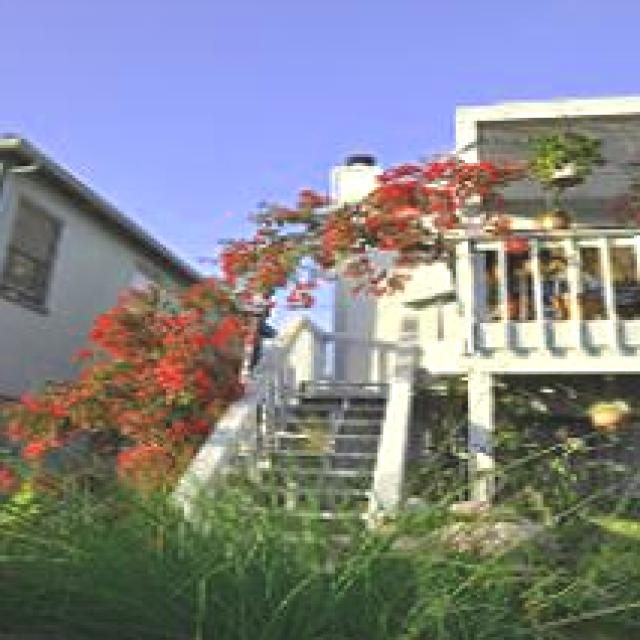upstair: (216, 330, 391, 557)
